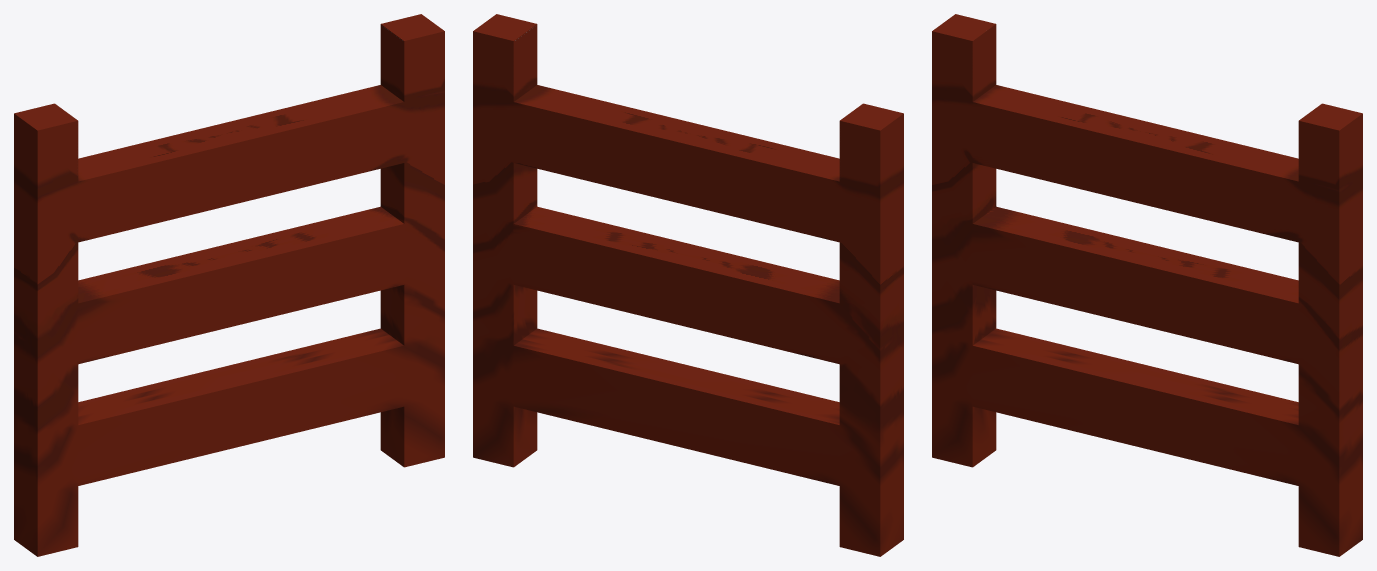
File: Fence(0.3x0.3).fbx
3 renders of one model, left to right at view 1: azimuth 30°, elevation 25°; view 2: azimuth 150°, elevation 25°; view 3: azimuth 330°, elevation 25°, orthographic.
Parts seen in each view (by area): view 1: Cube; view 2: Cube; view 3: Cube.
Boxes of the visible parts, box(x1,y1,x2,y2) form: Cube: box(14, 14, 444, 556); Cube: box(473, 14, 903, 556); Cube: box(932, 14, 1362, 556).
Size of the model in its own units: 30 by 30 by 3.
